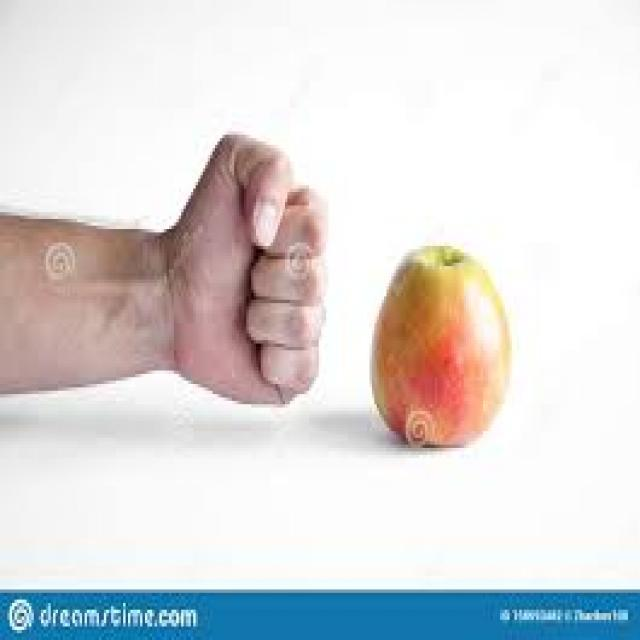Fresh Apple: (367, 244, 515, 454)
